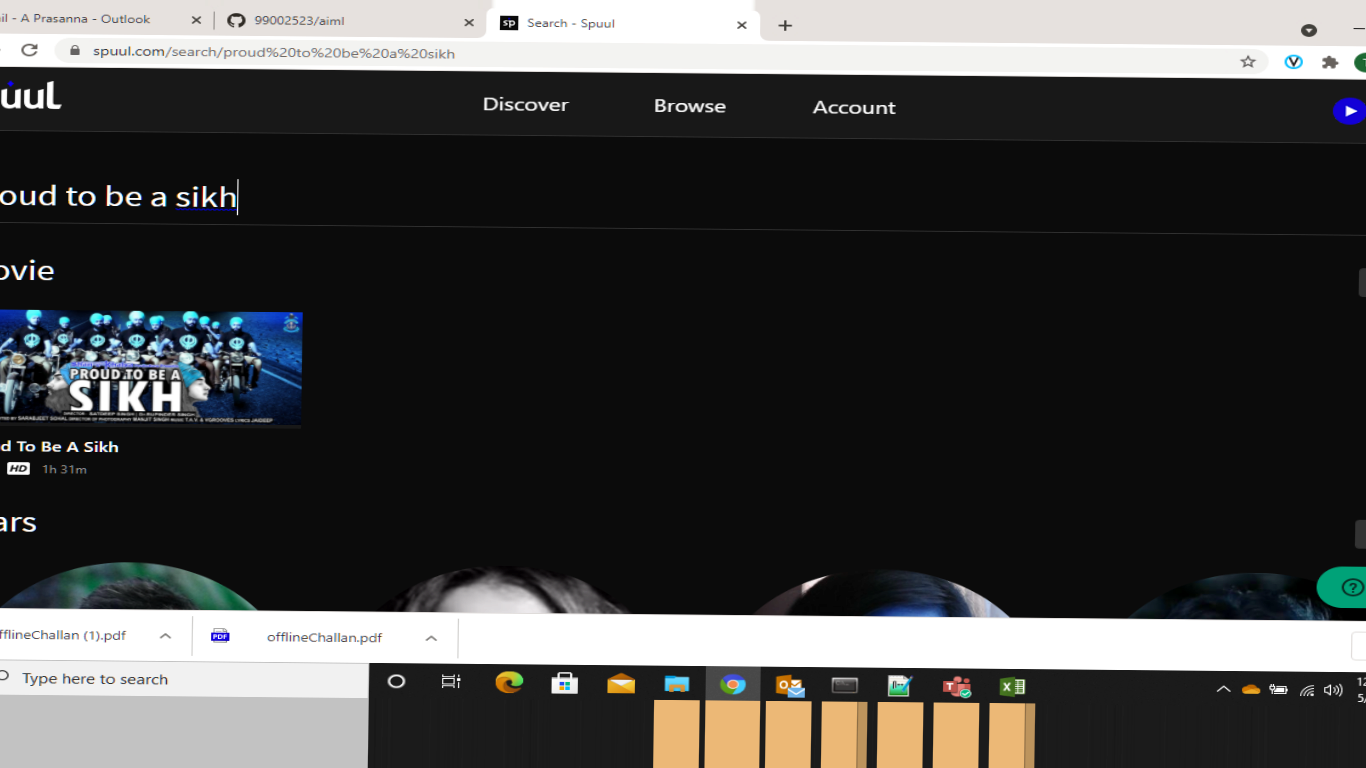myaccountbutton: (772, 70, 937, 135)
resultsfound: (1, 255, 103, 308)
searchtextbox: (1, 139, 1341, 233)
